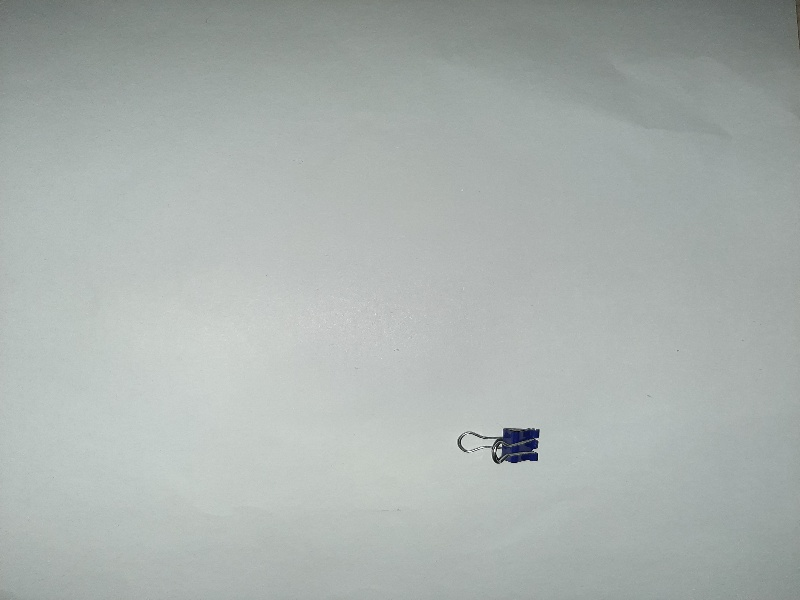Small Paperclip: (455, 419, 544, 473)
